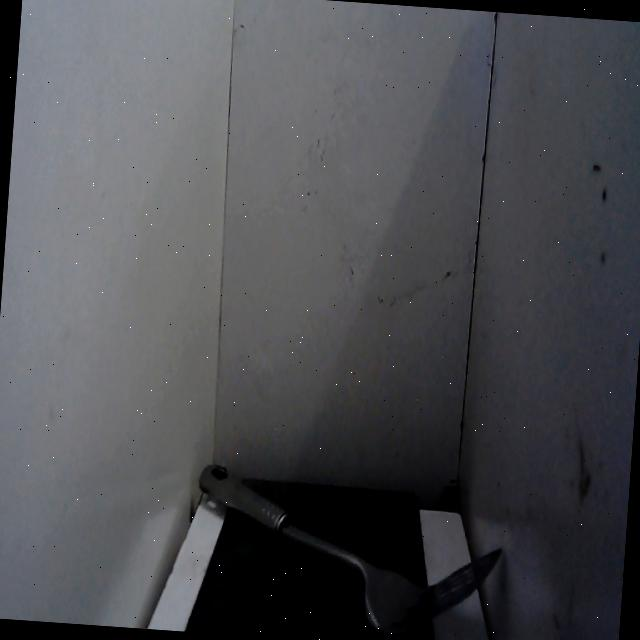metal: (183, 451, 513, 640)
